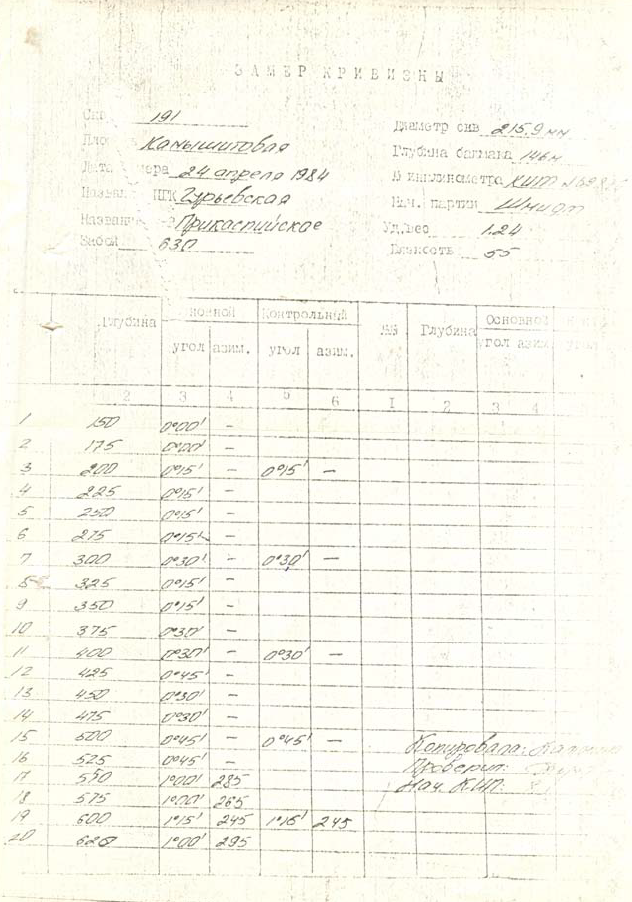Borderless: (8, 290, 624, 880)
